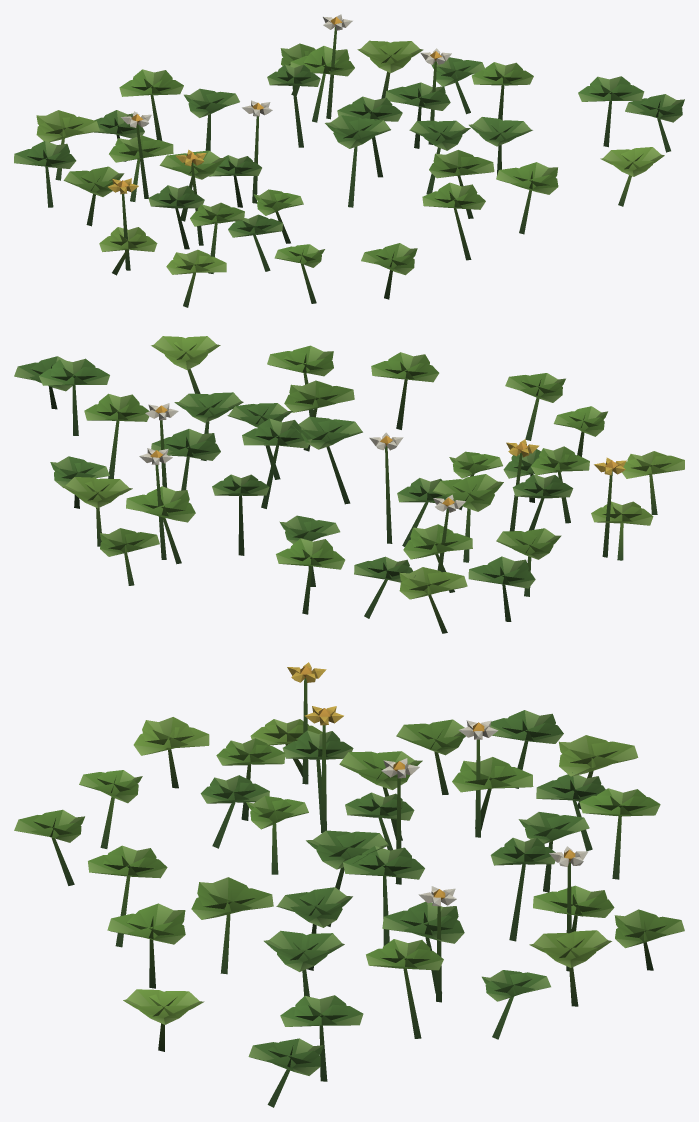
Rendered from gk_grass_clover_patch.glb.
3 views of the same model, one above another, from view 1: azimuth 30°, elevation 25°; view 2: azimuth 150°, elevation 25°; view 3: azimuth 270°, elevation 25° (orthographic). The views are drawn at different scales.
Visible parts, largest first — view 1: gk_grass_clover_patch; view 2: gk_grass_clover_patch; view 3: gk_grass_clover_patch.
Boxes of the visible parts, x1=… form: gk_grass_clover_patch: x1=14, y1=14, x2=684, y2=307; gk_grass_clover_patch: x1=14, y1=336, x2=684, y2=633; gk_grass_clover_patch: x1=14, y1=662, x2=684, y2=1107.
Size of the model in its own units: 0.8326 by 0.1377 by 0.6587.
